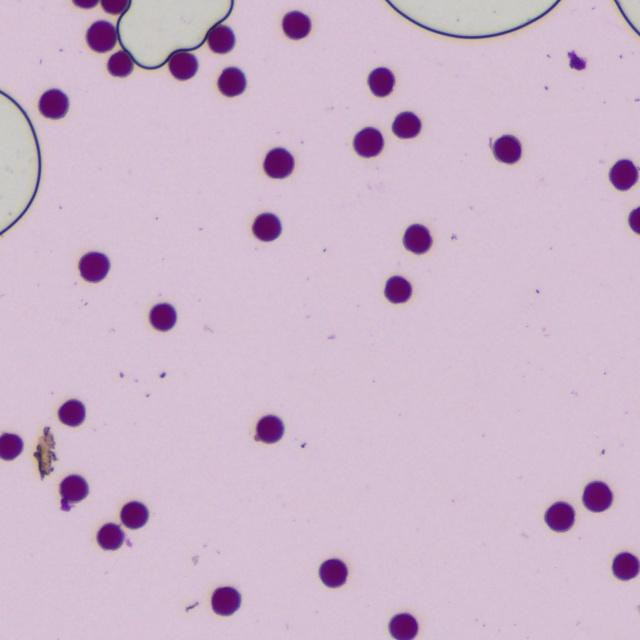viable: (263, 147, 294, 178), (86, 21, 116, 52), (545, 501, 574, 531), (583, 481, 612, 511), (79, 252, 109, 281), (39, 89, 68, 118), (609, 159, 637, 189), (211, 587, 240, 615), (354, 127, 382, 156), (319, 558, 347, 587), (403, 224, 431, 253), (493, 135, 521, 163), (169, 51, 197, 79), (282, 11, 310, 39), (218, 67, 245, 96), (256, 415, 283, 443), (612, 552, 639, 580), (253, 213, 280, 241), (149, 303, 176, 331), (392, 112, 421, 138), (368, 67, 394, 96), (389, 613, 418, 639), (121, 501, 148, 528), (384, 276, 411, 303), (208, 25, 234, 53), (60, 475, 88, 501), (58, 399, 84, 426), (97, 524, 123, 549), (108, 51, 132, 76), (0, 433, 22, 460), (101, 0, 129, 14), (568, 51, 585, 69), (629, 207, 639, 233), (73, 0, 98, 8)
